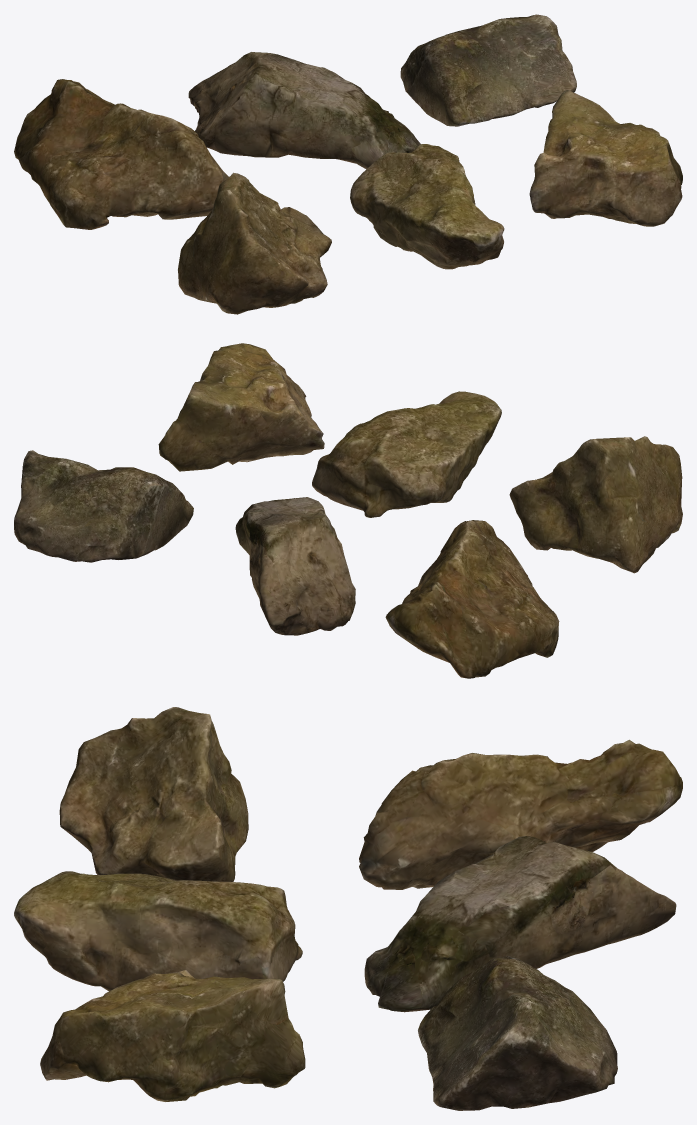
The model's file is rock_moss_set_01.glb.
3 views of the same model, one above another, from view 1: azimuth 30°, elevation 25°; view 2: azimuth 150°, elevation 25°; view 3: azimuth 270°, elevation 25° (orthographic). The views are drawn at different scales.
Visible parts, largest first — view 1: rock_moss_set_01_rock01, rock_moss_set_01_rock02, rock_moss_set_01_rock06, rock_moss_set_01_rock04, rock_moss_set_01_rock03, rock_moss_set_01_rock05; view 2: rock_moss_set_01_rock04, rock_moss_set_01_rock01, rock_moss_set_01_rock05, rock_moss_set_01_rock03, rock_moss_set_01_rock06, rock_moss_set_01_rock02; view 3: rock_moss_set_01_rock01, rock_moss_set_01_rock02, rock_moss_set_01_rock05, rock_moss_set_01_rock04, rock_moss_set_01_rock06, rock_moss_set_01_rock03.
Boxes of the visible parts, x1=… form: rock_moss_set_01_rock01: x1=14, y1=79, x2=228, y2=229; rock_moss_set_01_rock02: x1=188, y1=52, x2=420, y2=169; rock_moss_set_01_rock06: x1=529, y1=90, x2=682, y2=226; rock_moss_set_01_rock04: x1=178, y1=172, x2=331, y2=314; rock_moss_set_01_rock03: x1=400, y1=14, x2=576, y2=126; rock_moss_set_01_rock05: x1=350, y1=144, x2=504, y2=269; rock_moss_set_01_rock04: x1=509, y1=436, x2=682, y2=573; rock_moss_set_01_rock01: x1=385, y1=520, x2=559, y2=678; rock_moss_set_01_rock05: x1=312, y1=391, x2=501, y2=517; rock_moss_set_01_rock03: x1=14, y1=450, x2=193, y2=562; rock_moss_set_01_rock06: x1=158, y1=343, x2=324, y2=471; rock_moss_set_01_rock02: x1=235, y1=497, x2=355, y2=635; rock_moss_set_01_rock01: x1=359, y1=739, x2=682, y2=889; rock_moss_set_01_rock02: x1=364, y1=836, x2=676, y2=1012; rock_moss_set_01_rock05: x1=14, y1=871, x2=302, y2=991; rock_moss_set_01_rock04: x1=59, y1=707, x2=248, y2=881; rock_moss_set_01_rock06: x1=40, y1=970, x2=305, y2=1101; rock_moss_set_01_rock03: x1=418, y1=956, x2=617, y2=1110.
Bounding box in the file's own units: 8 × 1.76 × 6.94.
1 material, 1 textured.
